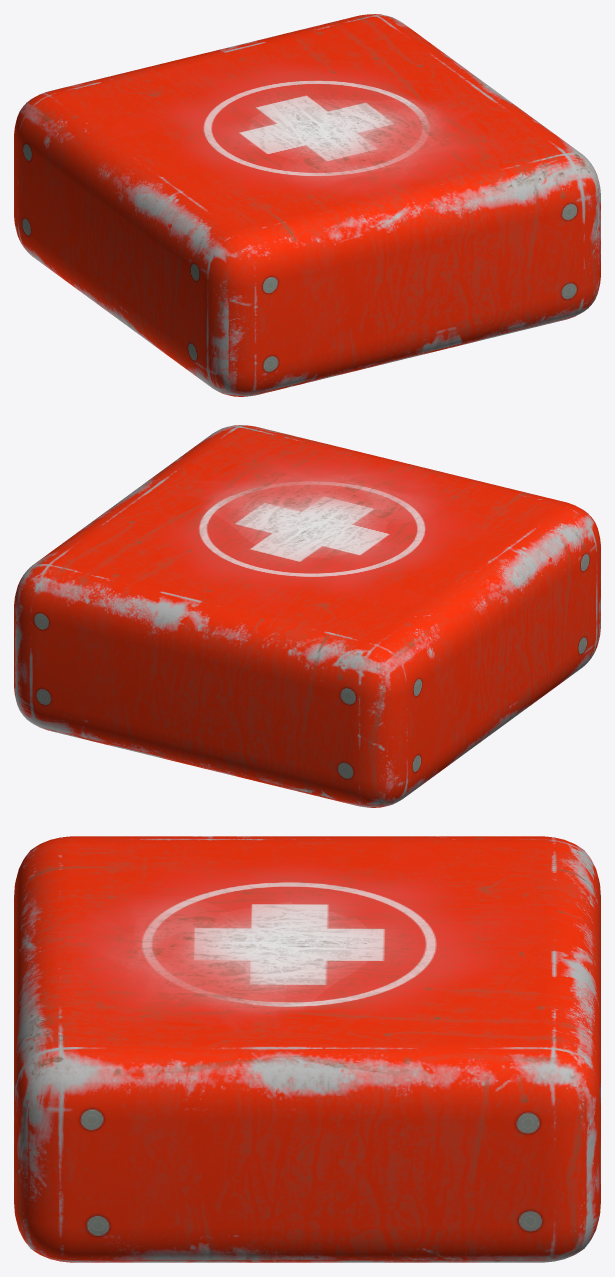
File: Botiquin.fbx
3 renders of one model, top to bottom at view 1: azimuth 30°, elevation 25°; view 2: azimuth 150°, elevation 25°; view 3: azimuth 270°, elevation 25°, orthographic. The views are drawn at different scales.
Visible parts, largest first — view 1: Botiquin_low; view 2: Botiquin_low; view 3: Botiquin_low.
Part boxes in pixels (left/top/right/bottom): Botiquin_low: left=14, top=14, right=600, bottom=396; Botiquin_low: left=14, top=425, right=600, bottom=807; Botiquin_low: left=14, top=836, right=600, bottom=1262.
Bounding box in the file's own units: 50 × 20 × 50.
Materials: 1 (1 with a texture image).
